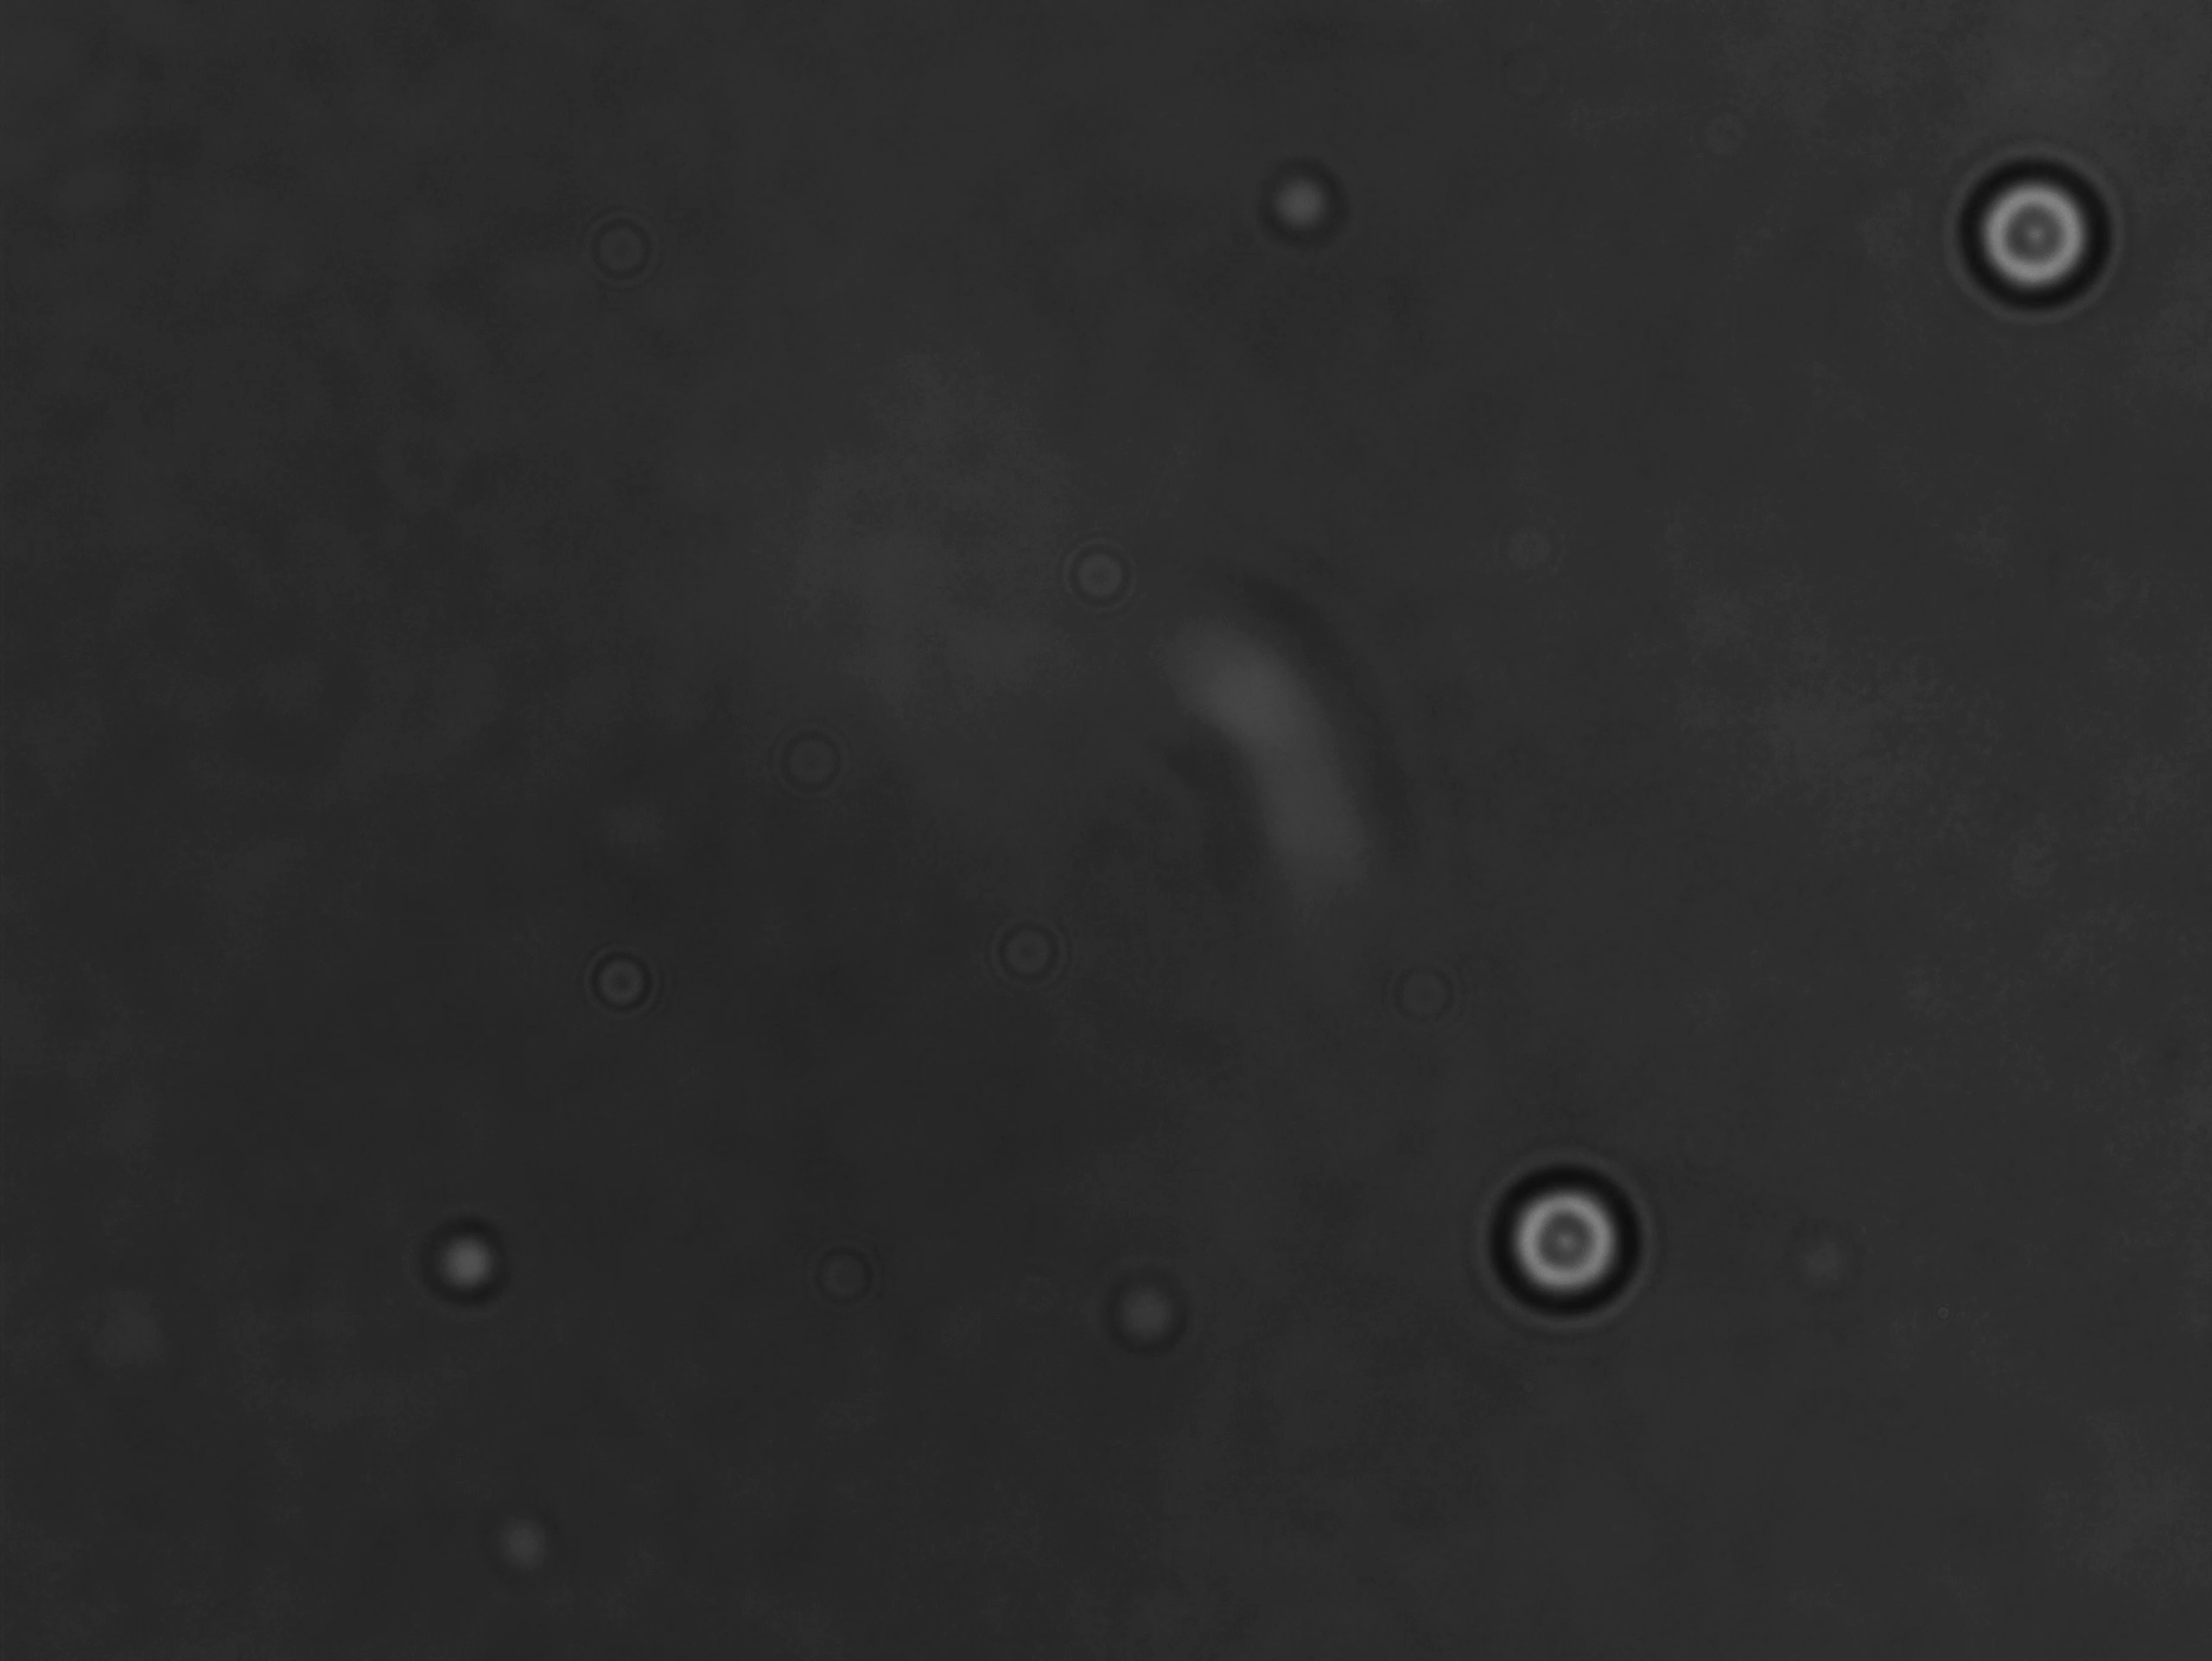depth:40: (1472, 1155, 1659, 1324), (1954, 152, 2128, 323)
